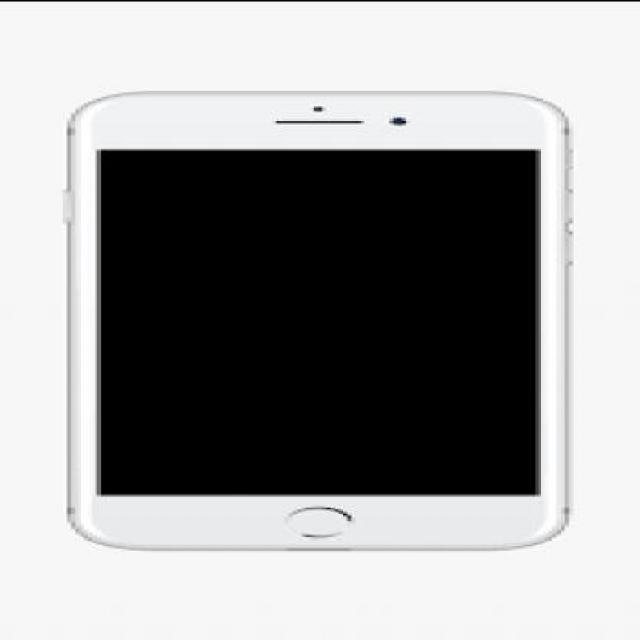phone: (63, 89, 577, 551)
